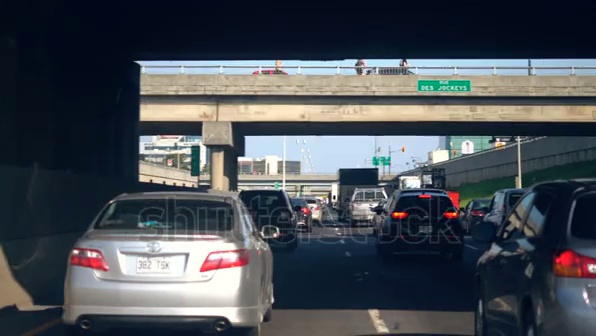licenseplate: (137, 259, 182, 274)
